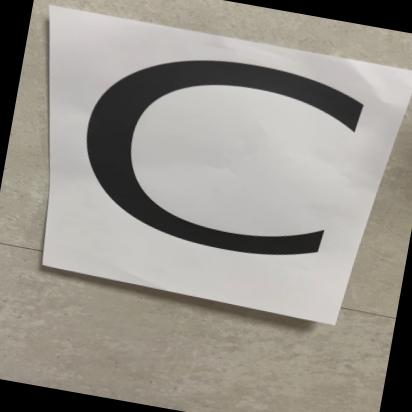seat: (10, 9, 396, 329)
